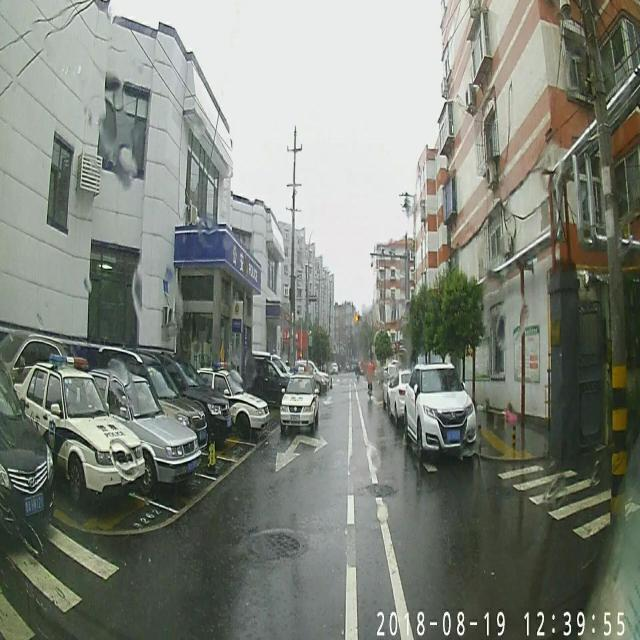car: (10, 364, 145, 497), (75, 364, 204, 484), (402, 358, 477, 460), (187, 360, 270, 432), (278, 364, 320, 436), (331, 358, 338, 374)
